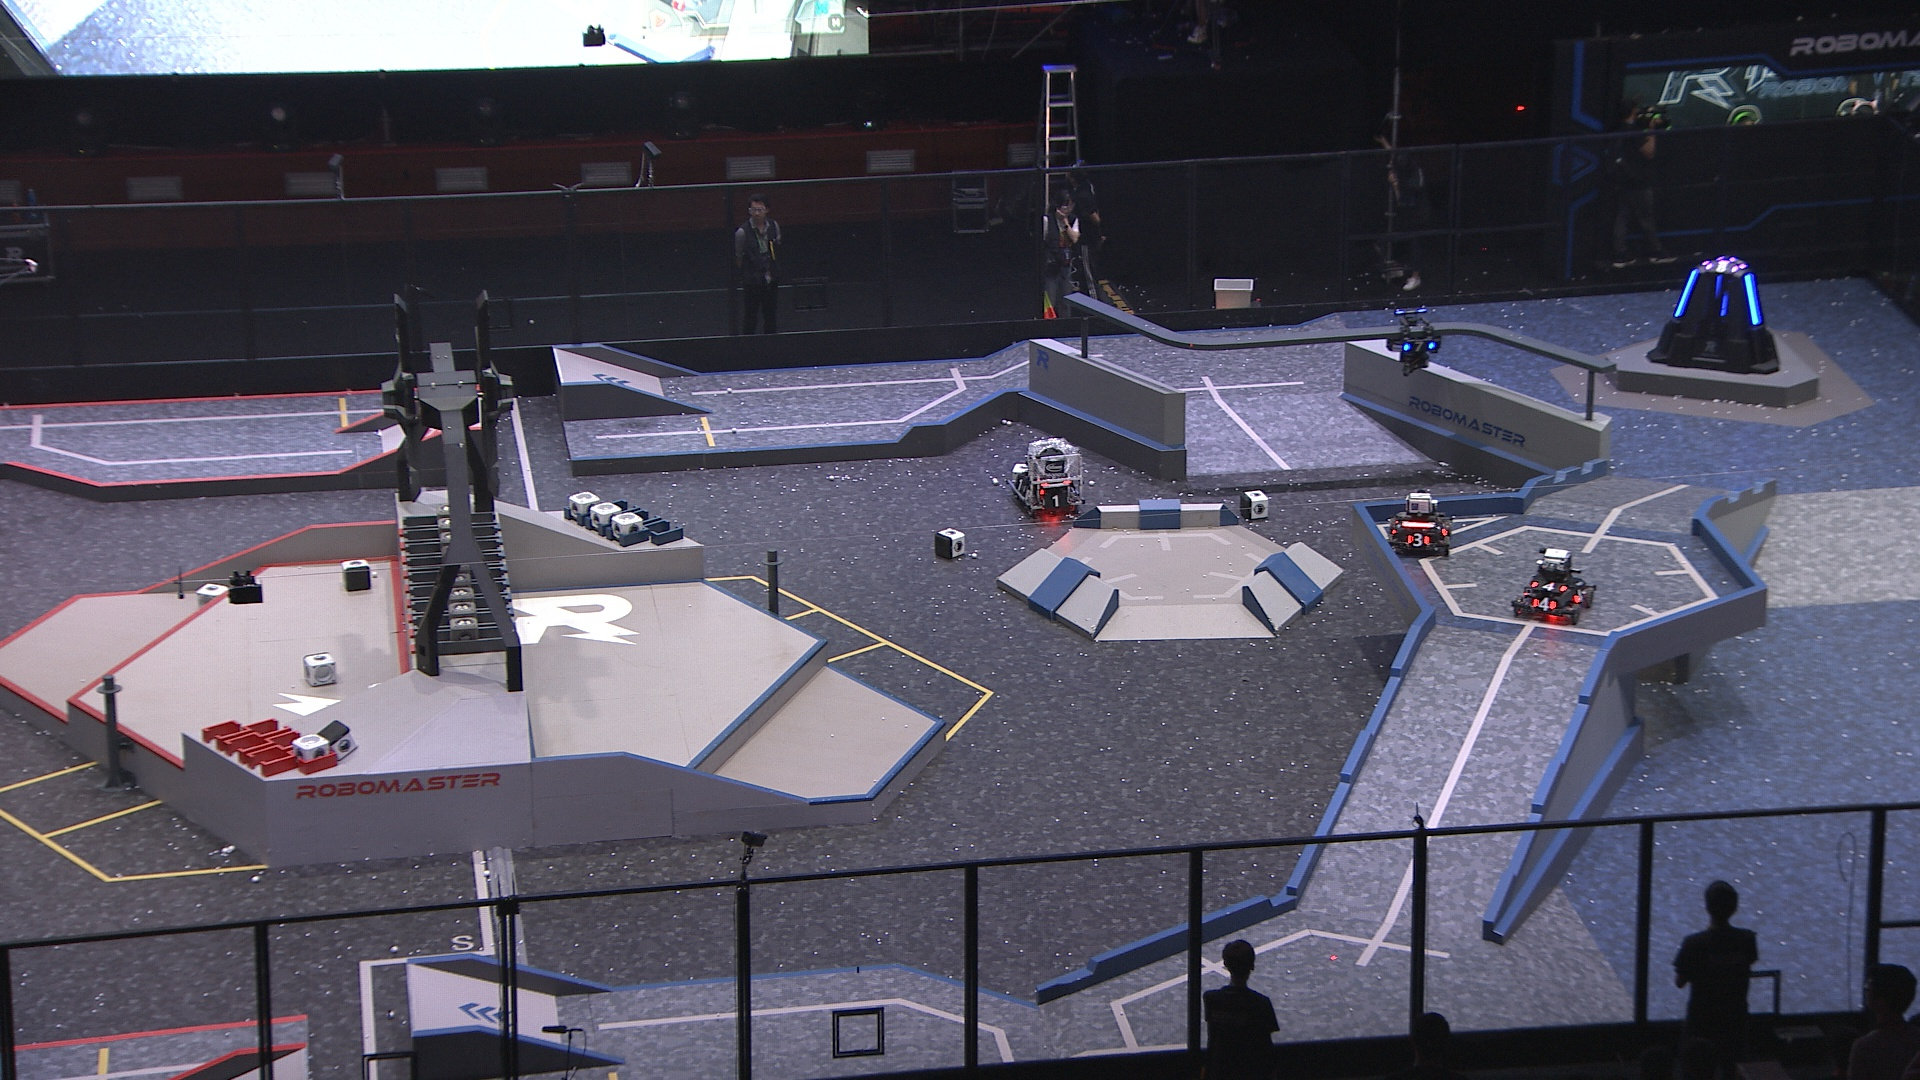armor: (1673, 266, 1700, 319), (1743, 272, 1760, 327), (1528, 579, 1569, 593), (1403, 339, 1437, 356), (1532, 597, 1557, 615), (1404, 531, 1429, 549), (1044, 493, 1068, 510), (1011, 475, 1029, 495), (1572, 585, 1588, 607), (1713, 272, 1724, 301)
base: (1644, 256, 1783, 377)
car: (1004, 436, 1087, 522), (1510, 545, 1596, 626), (1387, 489, 1452, 559)
ignore: (1705, 258, 1741, 273)
watcher: (1386, 309, 1443, 377)
